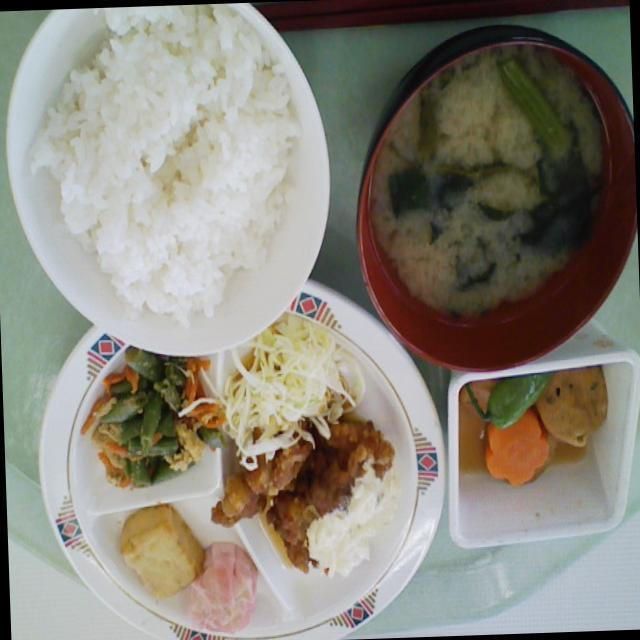Rice: (46, 8, 322, 310)
